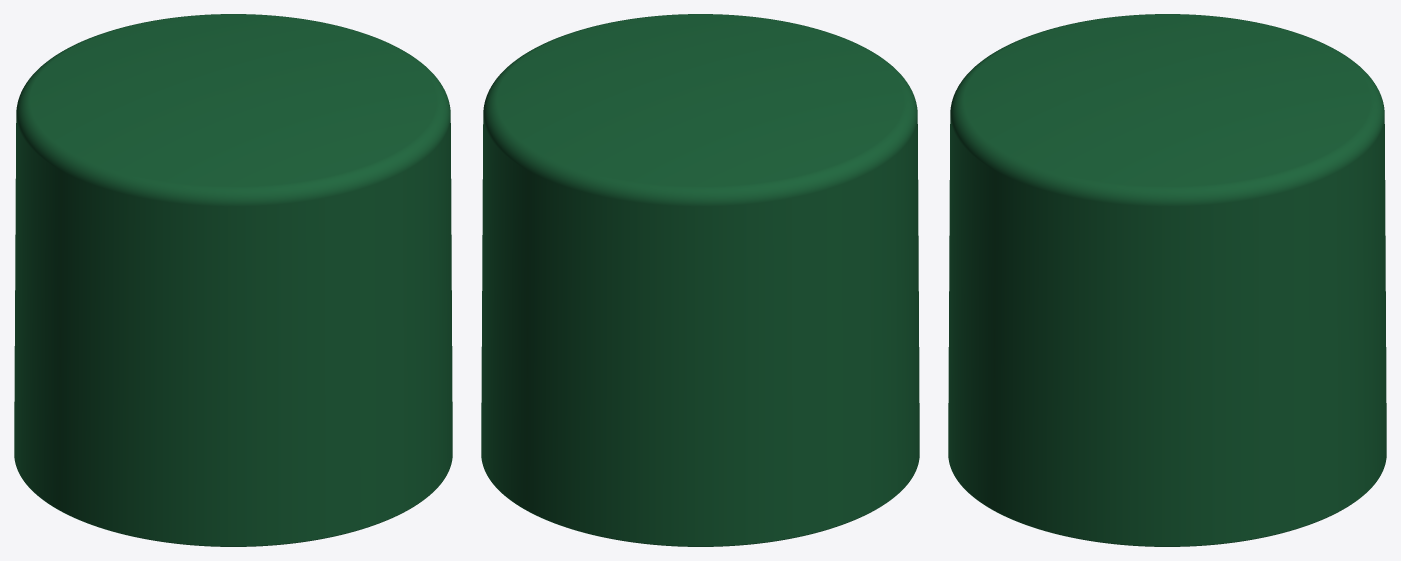
Rendered from cap.glb.
3 renders of one model, left to right at view 1: azimuth 30°, elevation 25°; view 2: azimuth 150°, elevation 25°; view 3: azimuth 270°, elevation 25°, orthographic.
Parts seen in each view (by area): view 1: NESSIMZOUAOUI_ v5; view 2: NESSIMZOUAOUI_ v5; view 3: NESSIMZOUAOUI_ v5.
Part boxes in pixels (box(x1,y1,x2,y2)): NESSIMZOUAOUI_ v5: box(14, 14, 452, 546); NESSIMZOUAOUI_ v5: box(481, 14, 919, 546); NESSIMZOUAOUI_ v5: box(948, 14, 1386, 546).
Bounding box in the file's own units: 0.0418 × 0.0383 × 0.0418.
